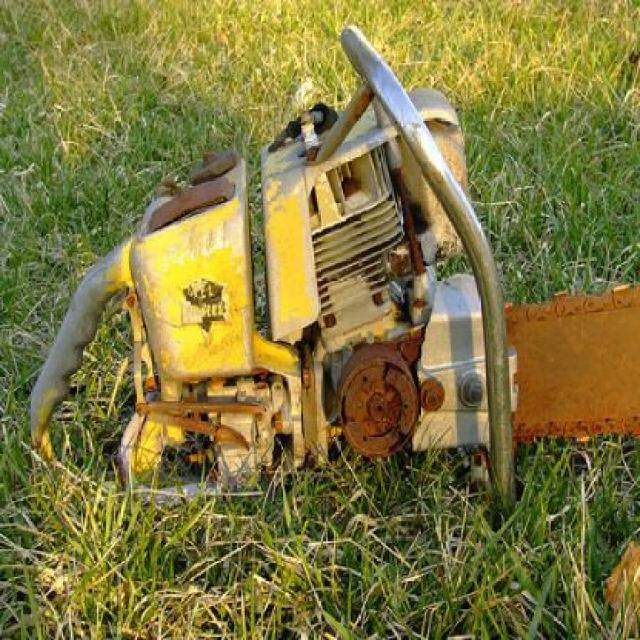Chainsaw: (15, 25, 640, 523)
